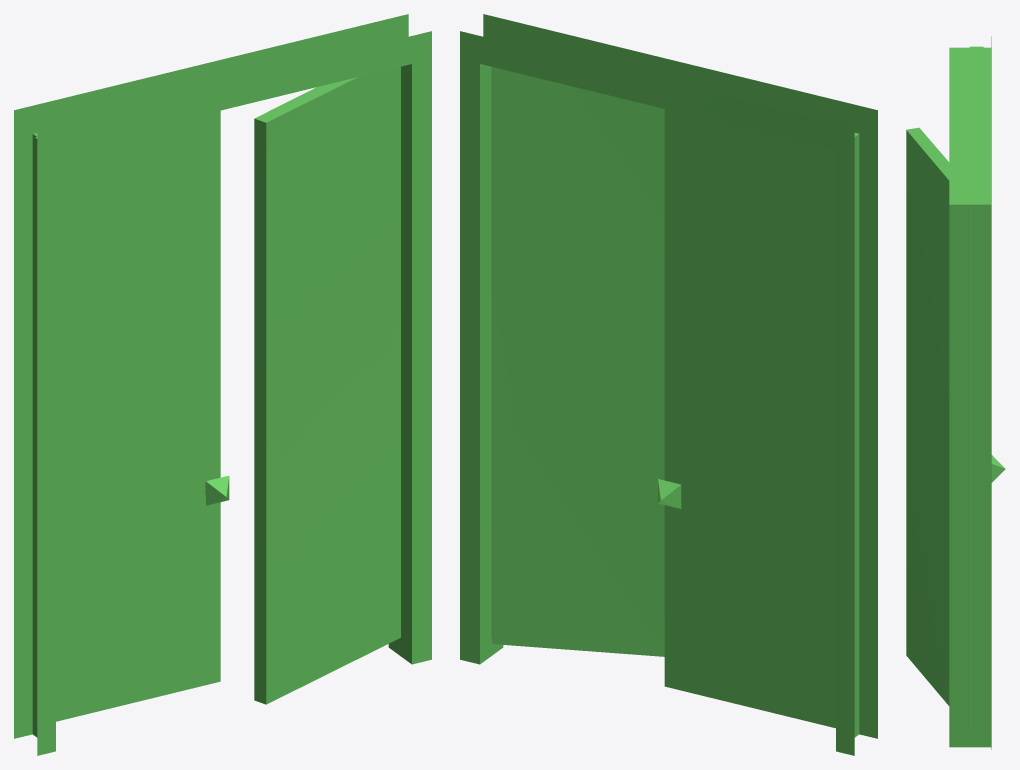
The model's file is Gen_Door_B_HalfOpen.fbx.
The picture shows the model from 3 angles, left to right: view 1: azimuth 30°, elevation 25°; view 2: azimuth 150°, elevation 25°; view 3: azimuth 270°, elevation 25°; orthographic projection. The views are drawn at different scales.
Parts seen in each view (by area): view 1: Gen_Door_B_HalfOpen; view 2: Gen_Door_B_HalfOpen; view 3: Gen_Door_B_HalfOpen.
Boxes of the visible parts, <box> form: Gen_Door_B_HalfOpen: <box>14,14,431,755</box>; Gen_Door_B_HalfOpen: <box>460,14,877,755</box>; Gen_Door_B_HalfOpen: <box>906,36,1005,749</box>.
Size of the model in its own units: 220 by 335 by 53.21.
